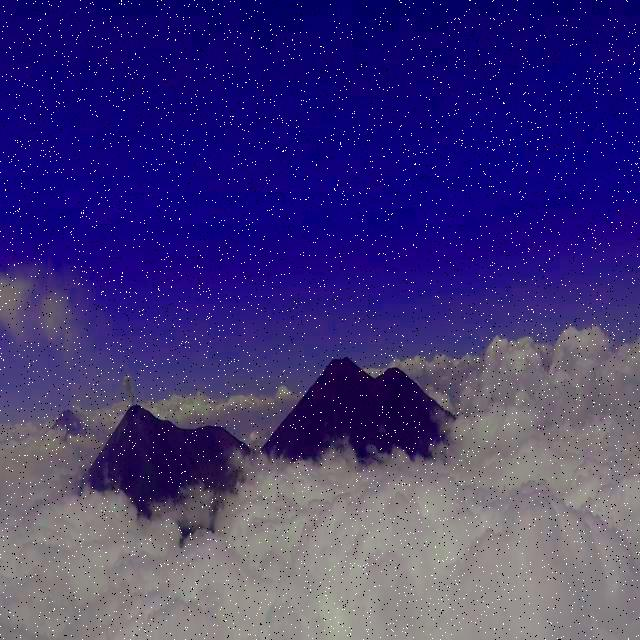Plume: (121, 371, 134, 402)
Summit: (110, 404, 182, 444)
